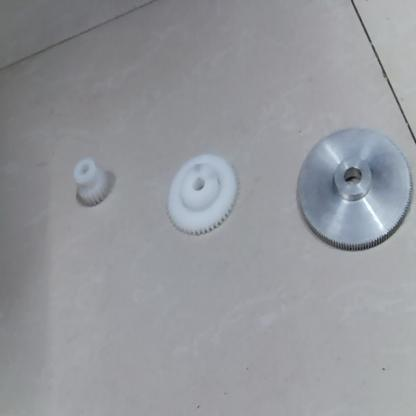FOD: (290, 124, 415, 254), (158, 153, 244, 244), (66, 155, 112, 208)
